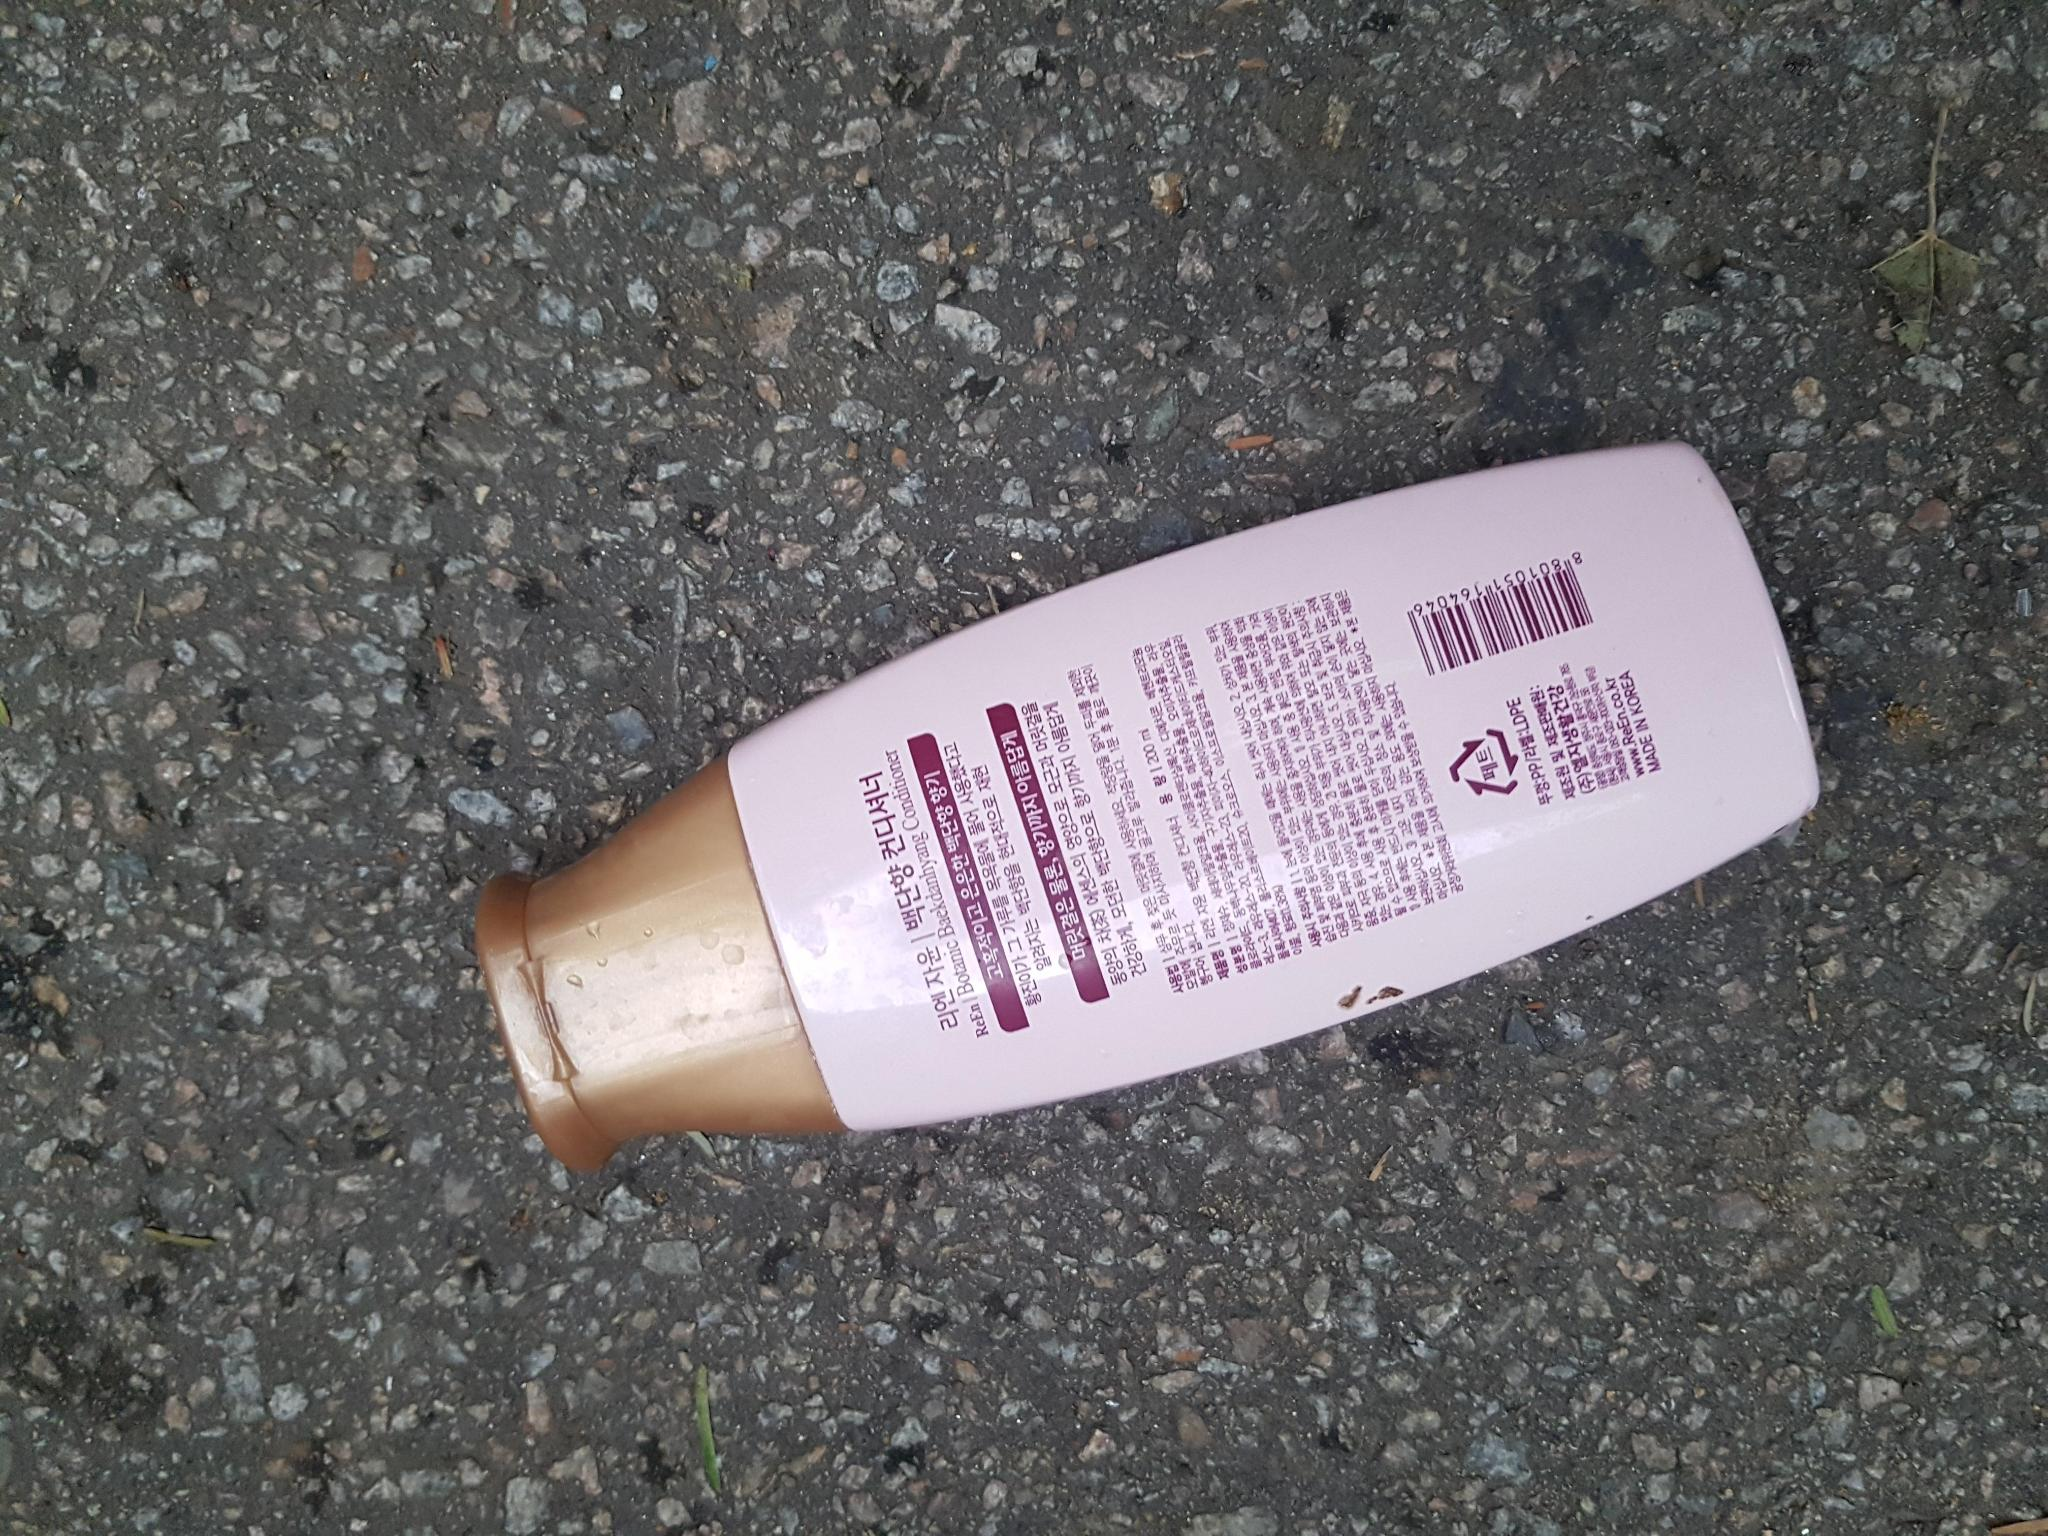bottle: (455, 415, 1845, 1196)
